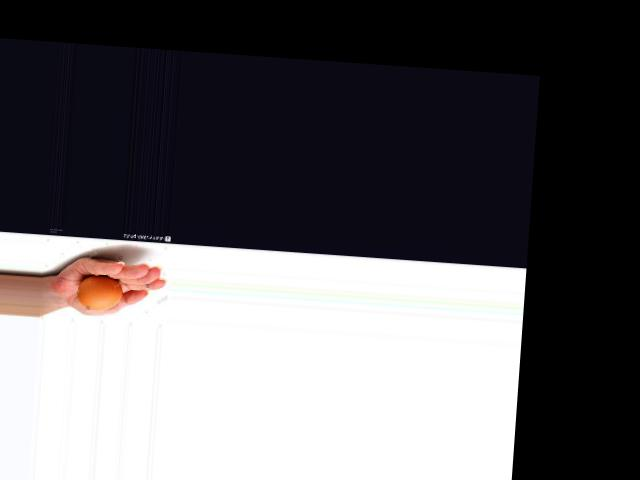egg: (75, 274, 122, 312)
